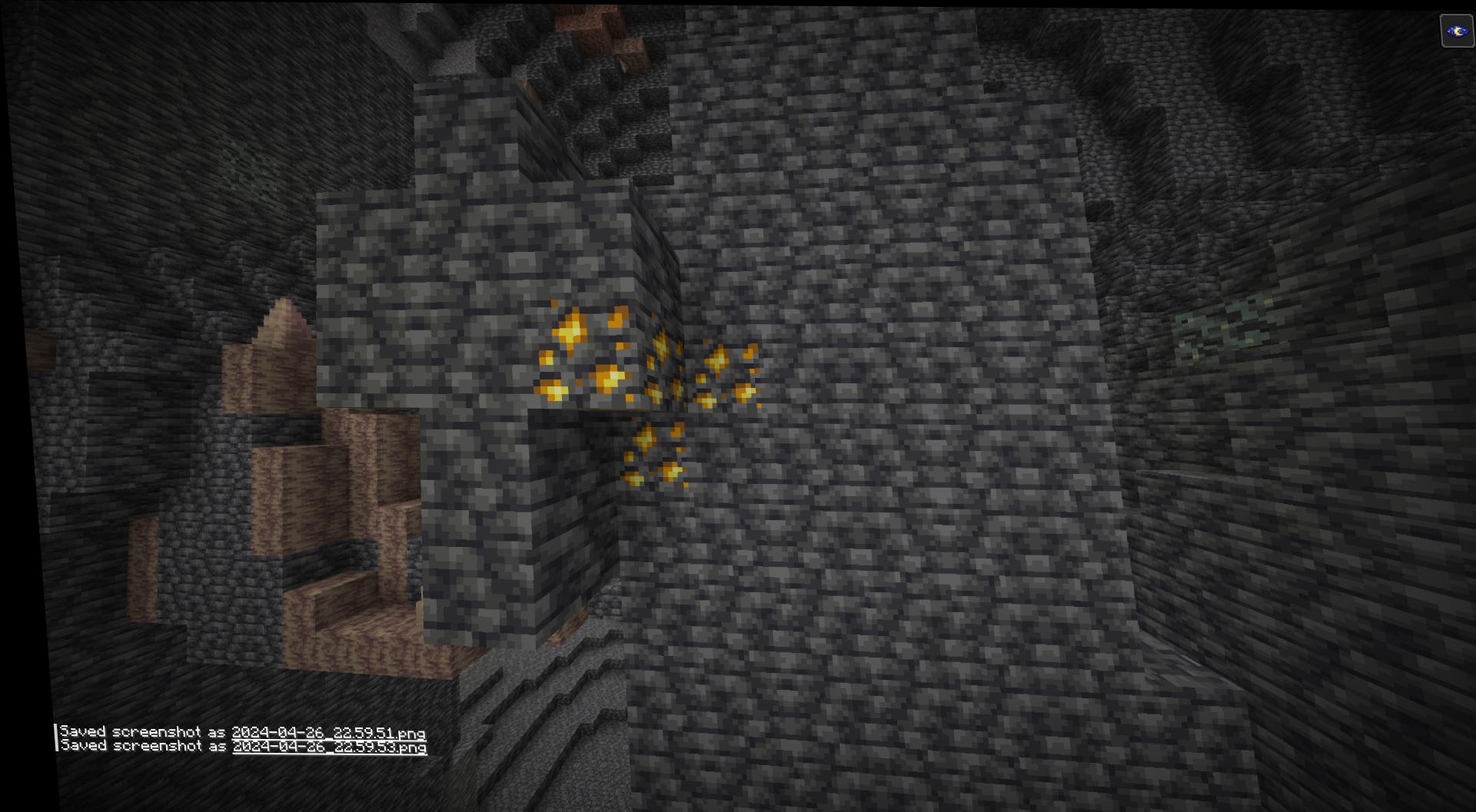gold ore: (526, 297, 633, 402), (606, 414, 688, 489), (681, 336, 761, 411), (628, 309, 682, 408)
